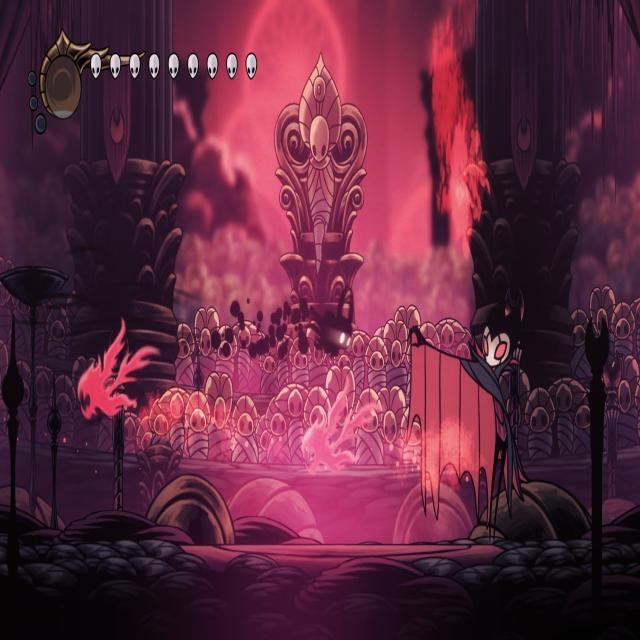Fire Bat: (76, 313, 161, 419), (300, 383, 384, 474)
Open Cloak: (402, 292, 526, 546)
Player: (308, 281, 355, 361)
